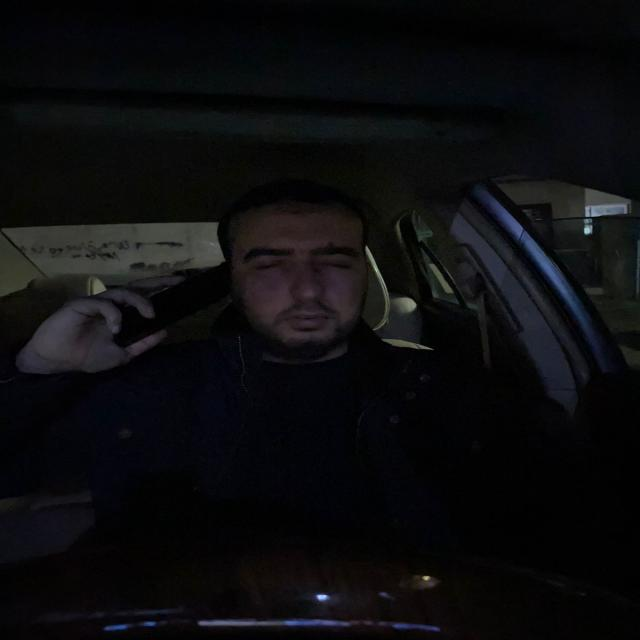mobile: (110, 260, 235, 351)
person: (214, 176, 388, 364)
